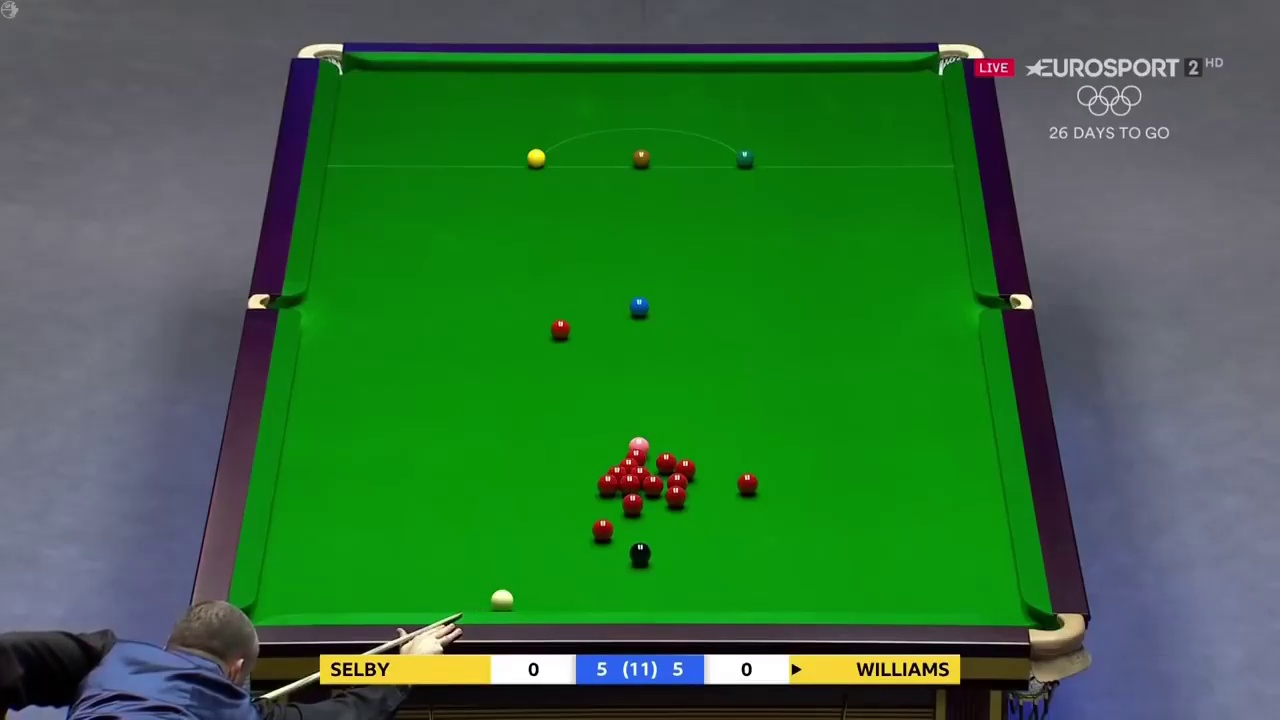ball: (589, 518, 613, 543), (666, 482, 685, 510), (629, 295, 652, 317), (735, 473, 758, 495), (630, 542, 650, 566), (527, 146, 545, 172), (632, 147, 649, 170), (623, 495, 642, 515), (552, 319, 570, 339), (737, 148, 752, 165)
